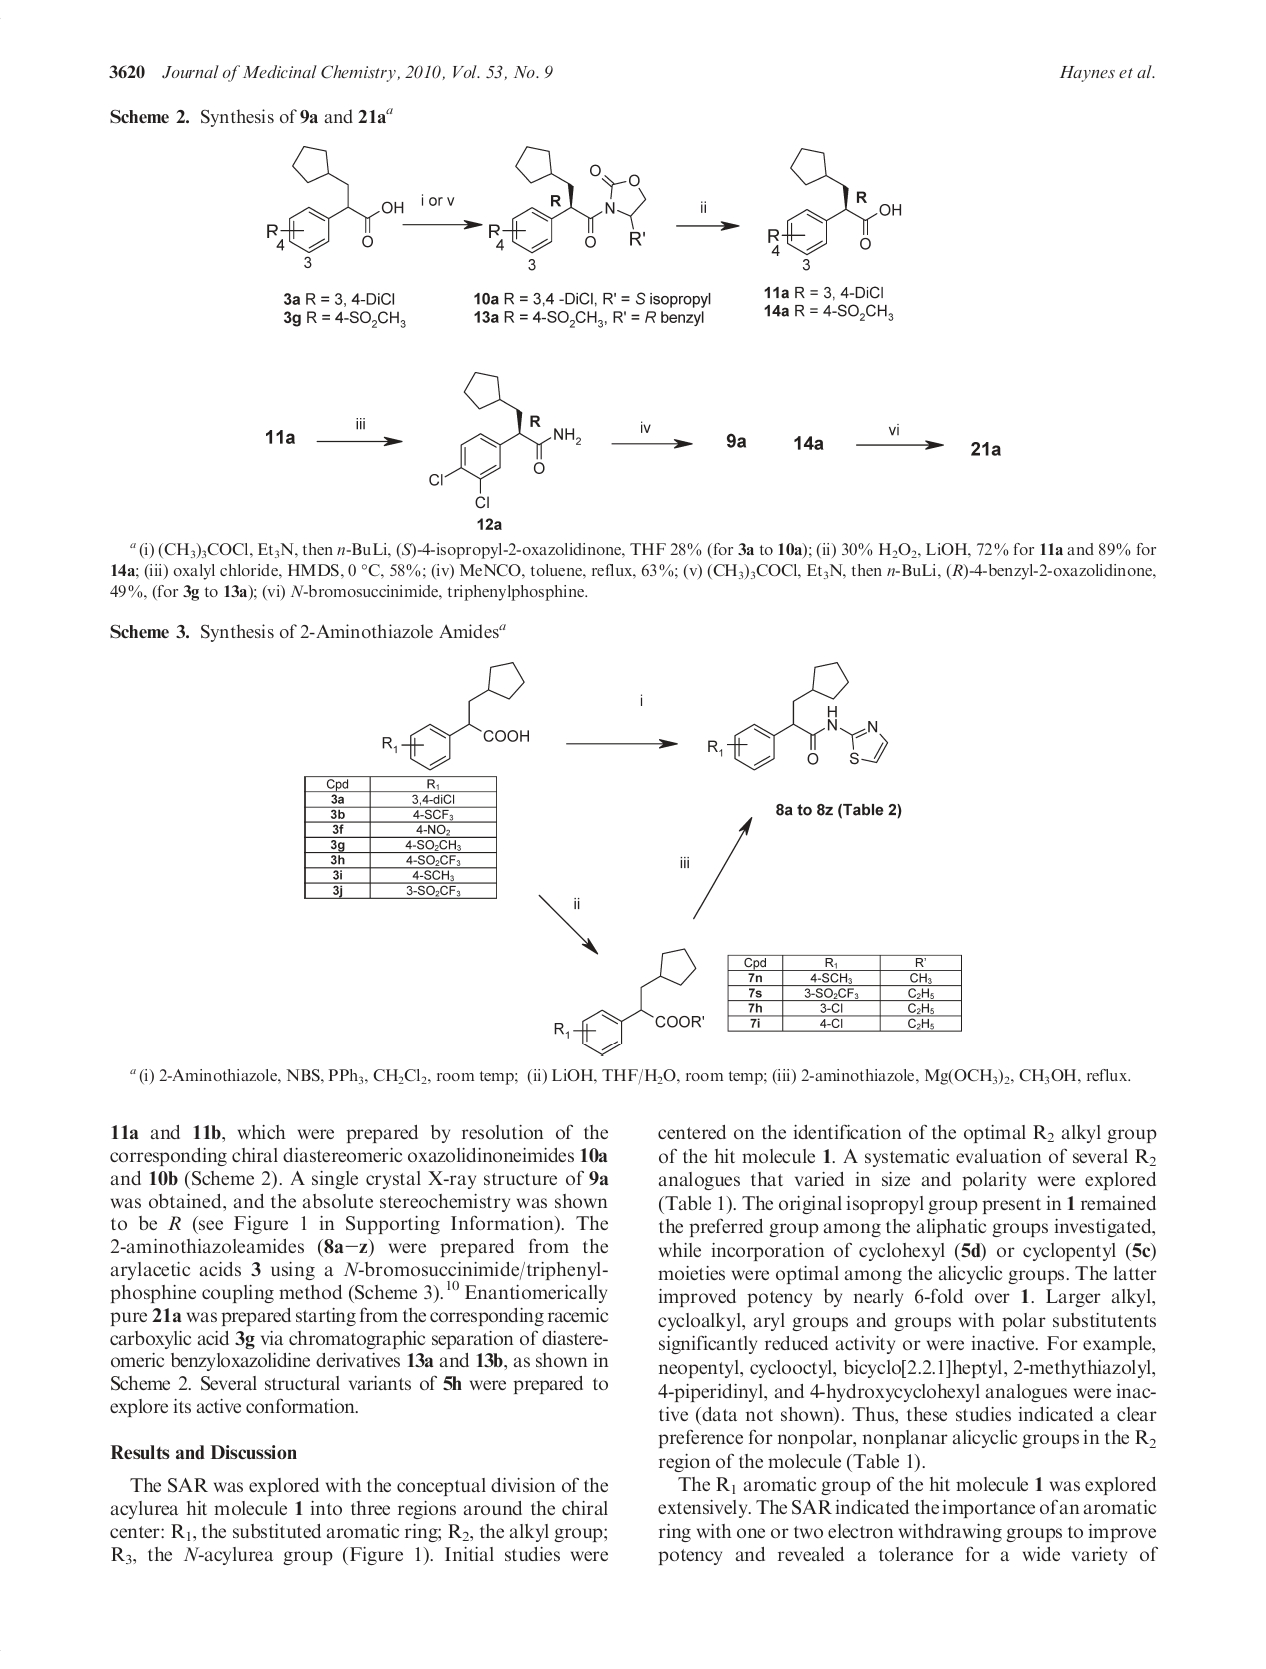exist_molecular: (699, 658, 898, 775), (426, 368, 581, 511), (485, 144, 656, 255), (551, 944, 715, 1059), (762, 148, 904, 277), (265, 144, 410, 270), (378, 653, 529, 767)
